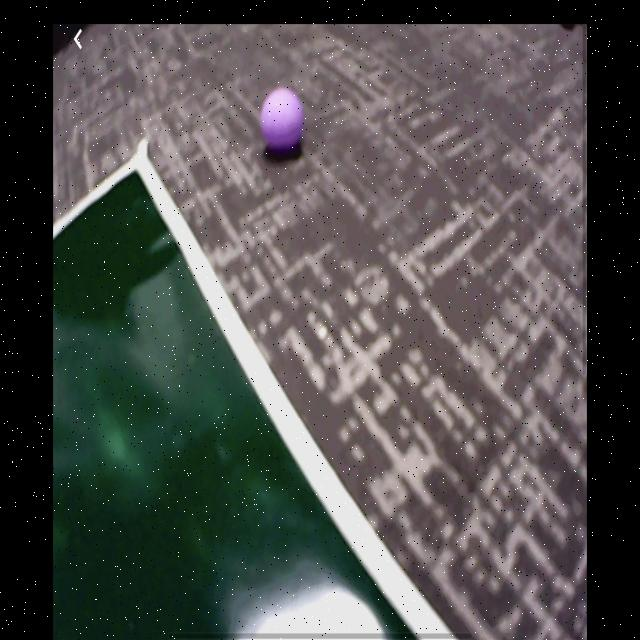ball: (260, 87, 305, 155)
